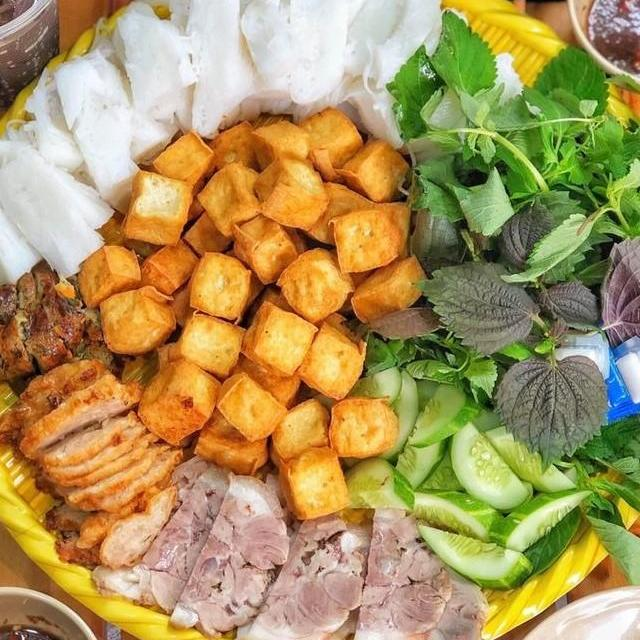bun: (0, 0, 557, 296)
bun dau: (0, 0, 640, 640)
cha com: (0, 351, 192, 577)
dau hu: (56, 93, 438, 530)
doi sun: (0, 253, 124, 388)
thit heo: (86, 450, 252, 618), (158, 469, 295, 640), (218, 497, 380, 640), (339, 494, 495, 640)
